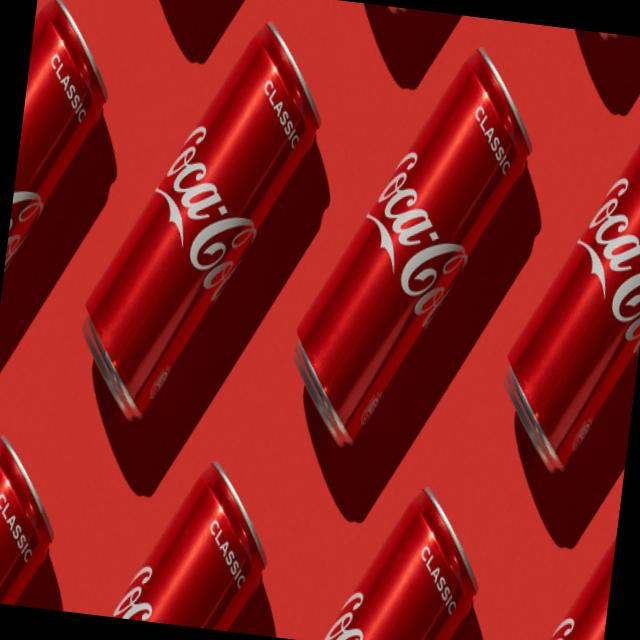cocacola: (282, 51, 542, 489), (84, 8, 333, 455), (506, 63, 640, 497)
